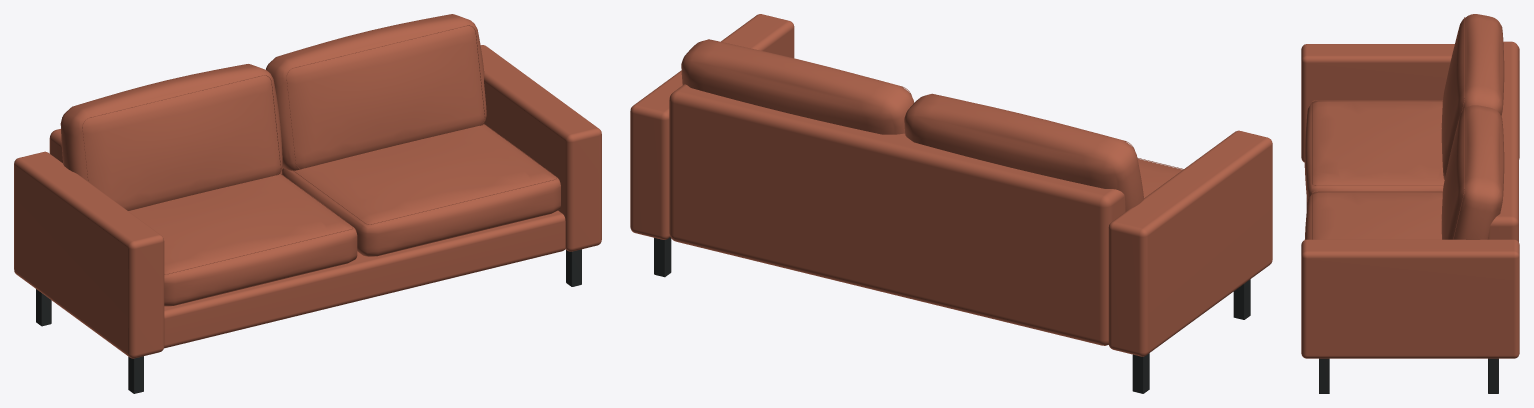
File: sofa-terra.glb
The picture shows the model from 3 angles, left to right: view 1: azimuth 30°, elevation 25°; view 2: azimuth 150°, elevation 25°; view 3: azimuth 270°, elevation 25°; orthographic projection. The views are drawn at different scales.
Visible parts, largest first — view 1: FORMA_Optimized; view 2: FORMA_Optimized; view 3: FORMA_Optimized.
Part boxes in pixels (x1,y1,x2,y2): FORMA_Optimized: [14, 14, 601, 393]; FORMA_Optimized: [630, 14, 1272, 393]; FORMA_Optimized: [1301, 14, 1519, 393].
Size of the model in its own units: 2.2 by 0.9626 by 0.96.
